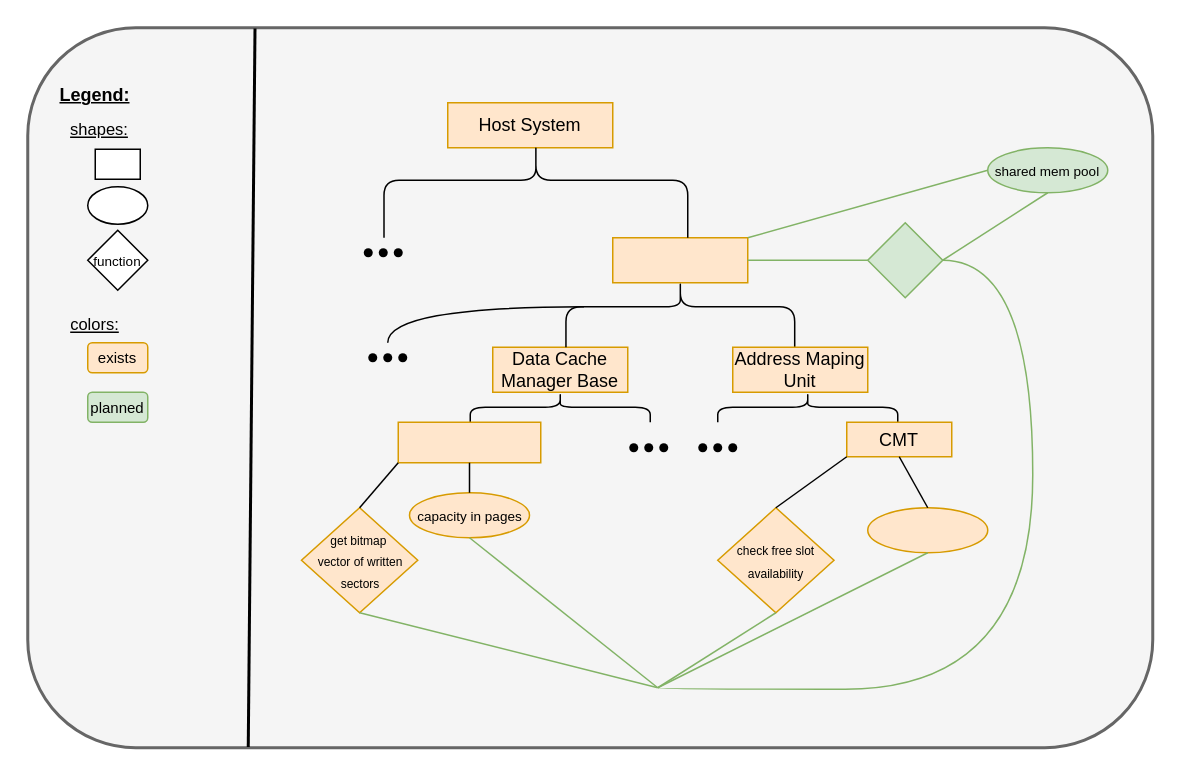
Image size: 1179x776. Some labels were removed from this diagram. The shapes that lost their labels are listed below. From the top down, each one's box as (x1, y1, x2, y2) in pixels, then its label:
(94, 148, 140, 179): class
(86, 185, 148, 224): attribute
(611, 236, 748, 283): SSD Device
(866, 221, 943, 298): repartition
(397, 421, 541, 463): Data cache flash
(866, 506, 988, 553): capacity
